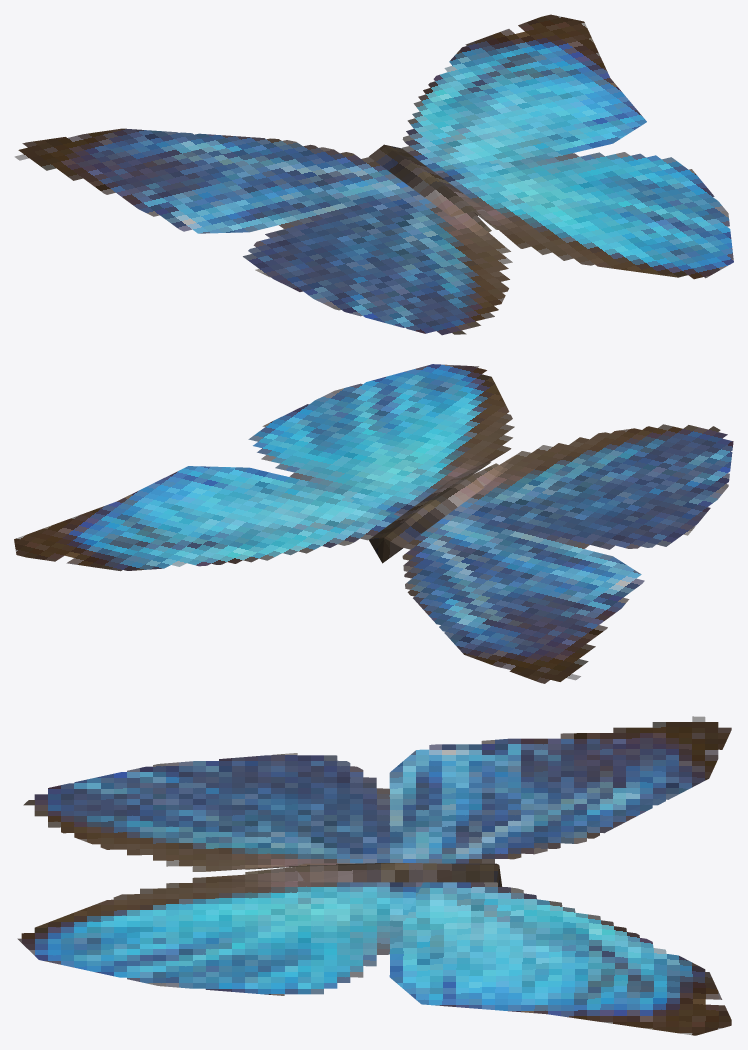
Rendered from BlueMorpho.gltf.
3 renders of one model, top to bottom at view 1: azimuth 30°, elevation 25°; view 2: azimuth 150°, elevation 25°; view 3: azimuth 270°, elevation 25°, orthographic. The views are drawn at different scales.
Parts seen in each view (by area): view 1: BlueMorpho; view 2: BlueMorpho; view 3: BlueMorpho.
Part boxes in pixels (x1,y1,x2,y2): BlueMorpho: (14,14,733,335); BlueMorpho: (14,364,733,683); BlueMorpho: (17,716,731,1035).
Size of the model in its own units: 34.29 by 1.5 by 32.44.
Materials: 1 (1 with a texture image).
